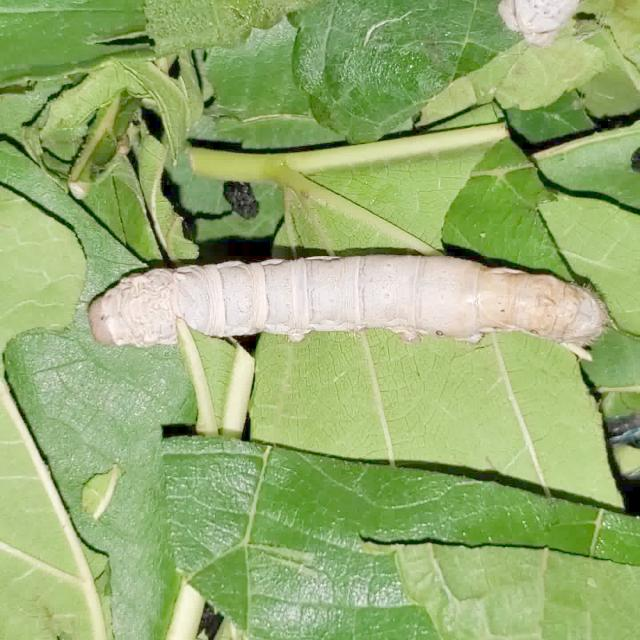Grasserie: (84, 218, 616, 382)
